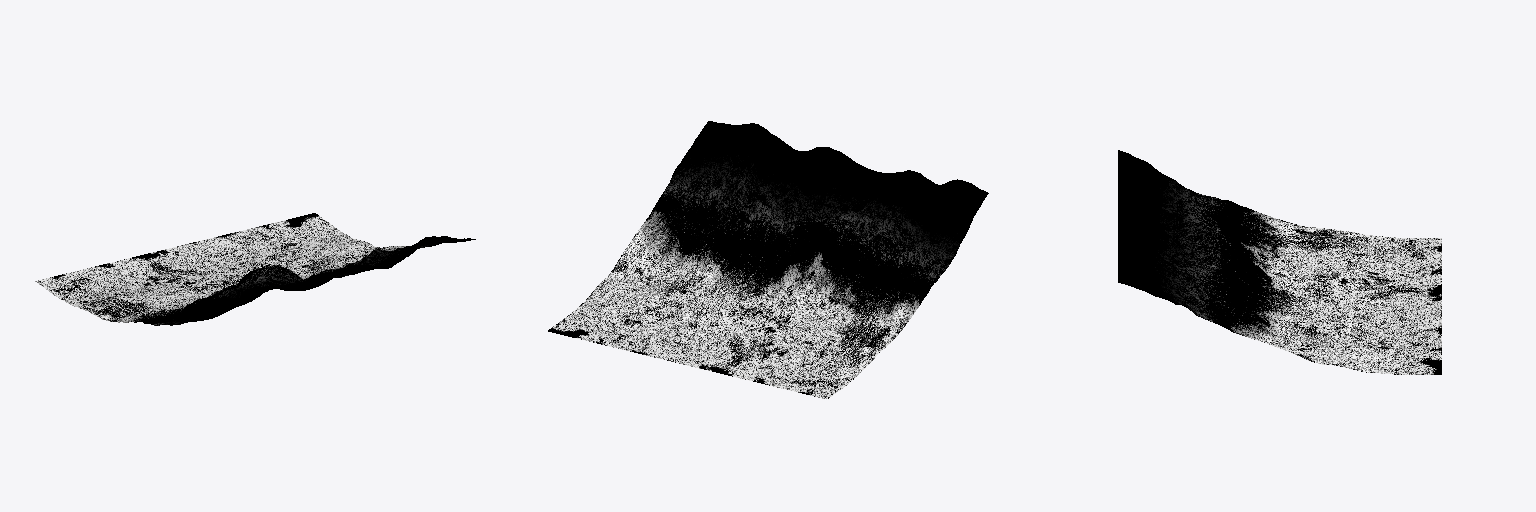
3 views of the same model, side by side, from view 1: azimuth 30°, elevation 25°; view 2: azimuth 150°, elevation 25°; view 3: azimuth 270°, elevation 25° (orthographic).
Parts seen in each view (by area): view 1: g0; view 2: g0; view 3: g0.
Part boxes in pixels (bbox=[...]): g0: bbox=[35, 213, 475, 325]; g0: bbox=[548, 121, 988, 398]; g0: bbox=[1118, 150, 1441, 374].
Size of the model in its own units: 0.9841 by 0.337 by 0.9841.
Materials: 1 (1 with a texture image).